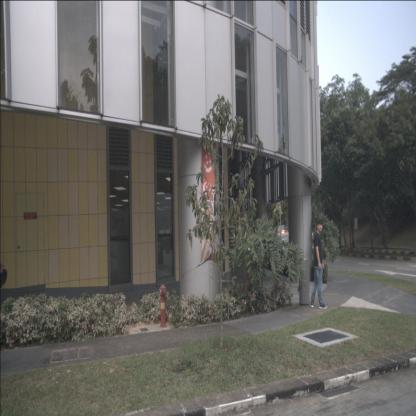human-pedestrian-adult: (310, 219, 328, 309)
